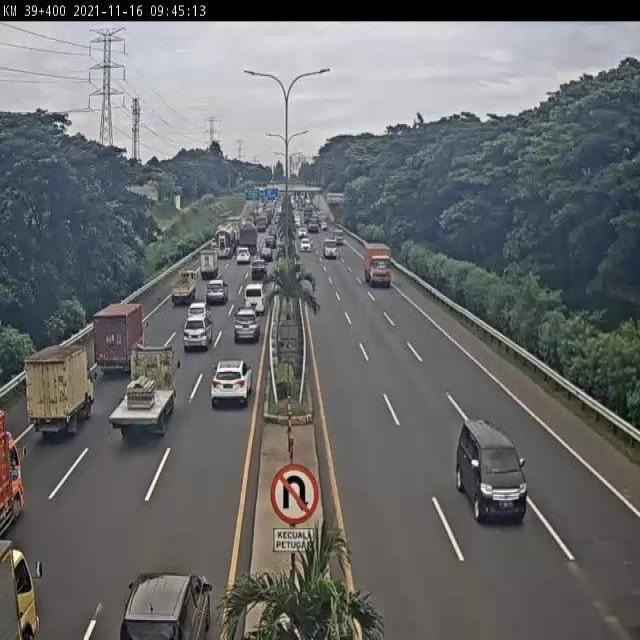car: (456, 419, 525, 520), (211, 360, 250, 407), (184, 316, 212, 352), (233, 312, 257, 343), (207, 278, 227, 306), (185, 300, 207, 323), (250, 264, 268, 281)
small bus: (245, 283, 264, 313)
small truck: (27, 346, 99, 438), (170, 269, 196, 307), (200, 248, 219, 280)
truck-m-: (108, 346, 179, 438), (94, 302, 147, 374), (366, 243, 393, 289)
